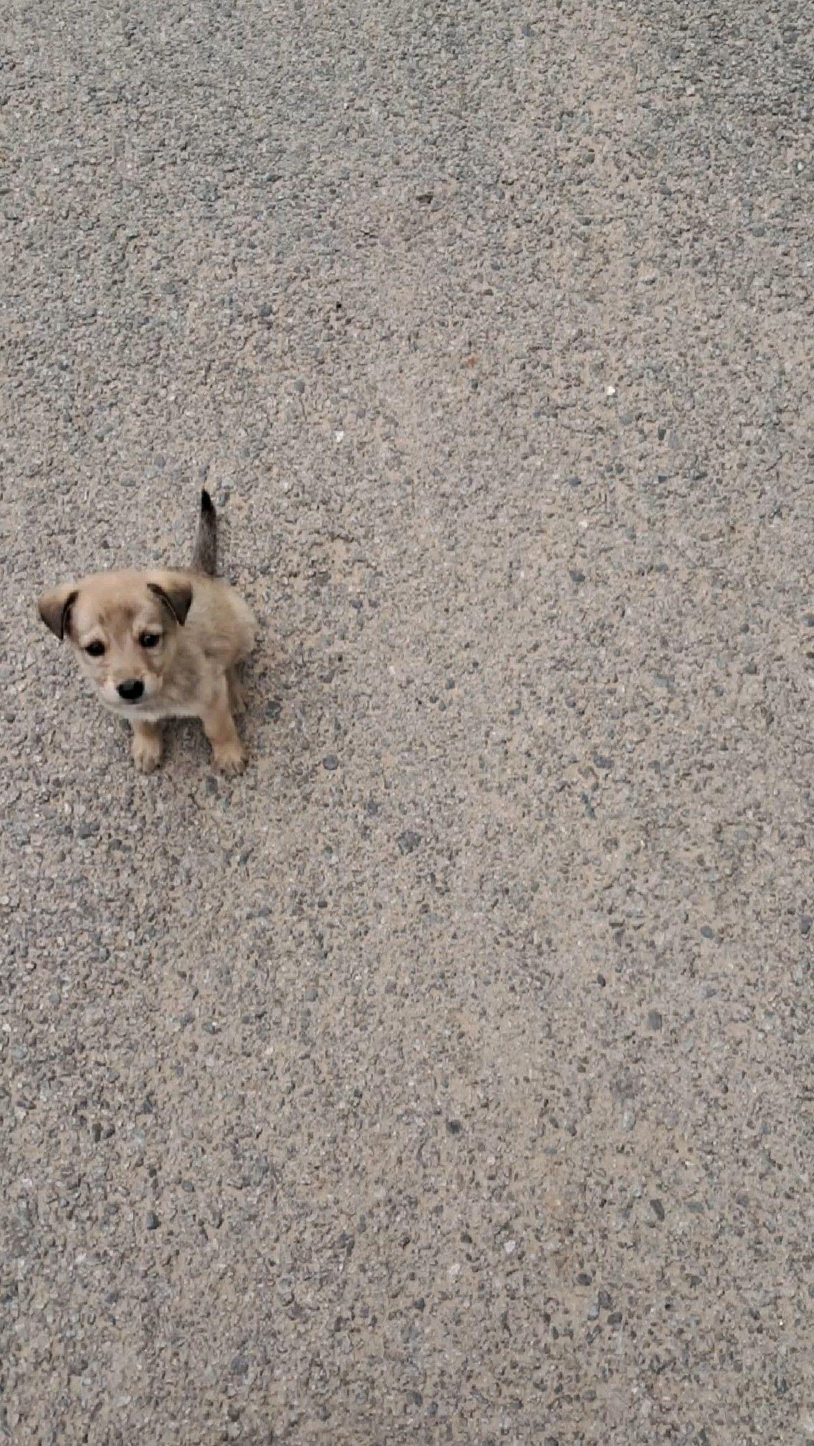puppy-dog: (34, 486, 260, 779)
